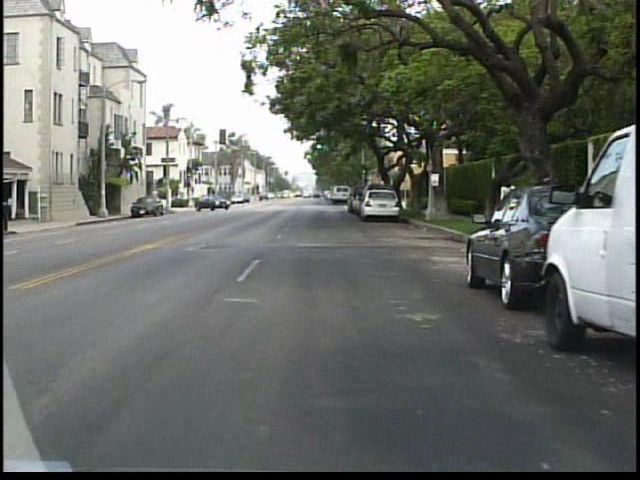person: (496, 172, 521, 232)
